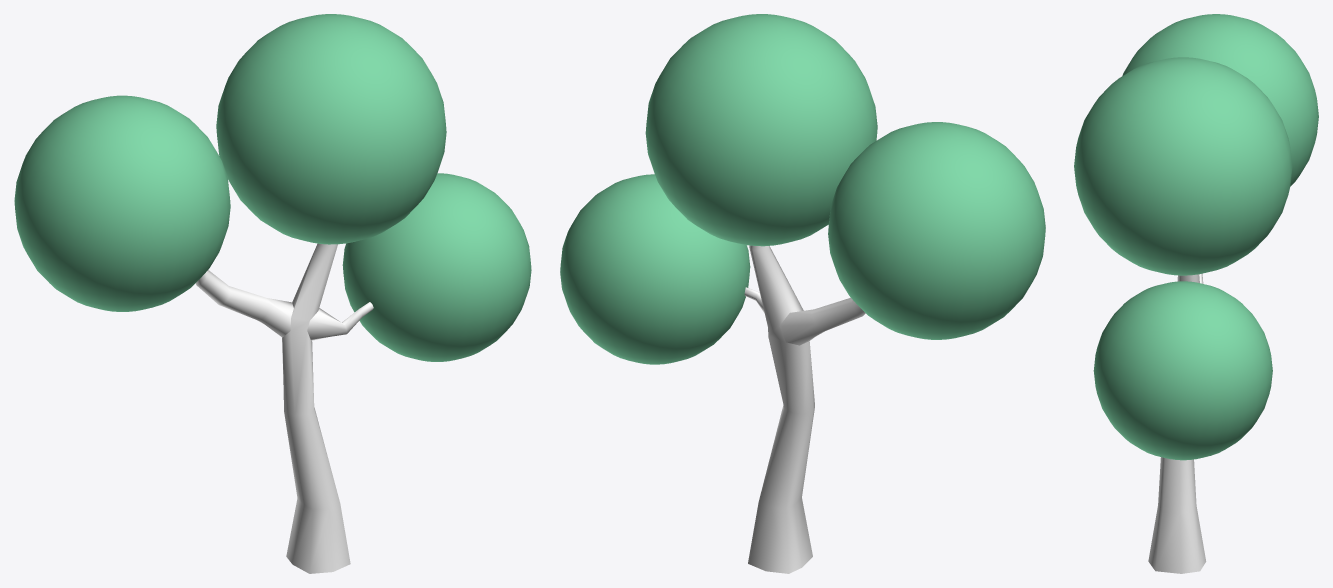
The model's file is Treewithleafs.fbx.
3 views of the same model, side by side, from view 1: azimuth 30°, elevation 25°; view 2: azimuth 150°, elevation 25°; view 3: azimuth 270°, elevation 25° (orthographic). The views are drawn at different scales.
Parts seen in each view (by area): view 1: Sphere.001, Sphere.002, Sphere, pCube9; view 2: Sphere.001, Sphere.002, Sphere, pCube9; view 3: Sphere.001, Sphere, Sphere.002, pCube9.
Boxes of the visible parts, x1,y1,x2,y2 form: Sphere.001: (216, 14, 446, 244); Sphere.002: (14, 95, 230, 311); Sphere: (342, 173, 531, 361); pCube9: (195, 243, 373, 573); Sphere.001: (645, 14, 877, 246); Sphere.002: (828, 122, 1045, 339); Sphere: (560, 174, 750, 364); pCube9: (744, 245, 865, 573); Sphere.001: (1074, 57, 1292, 275); Sphere: (1093, 281, 1272, 460); Sphere.002: (1122, 14, 1318, 186); pCube9: (1148, 273, 1206, 573).
Bounding box in the file's own units: 321 × 344 × 152.
